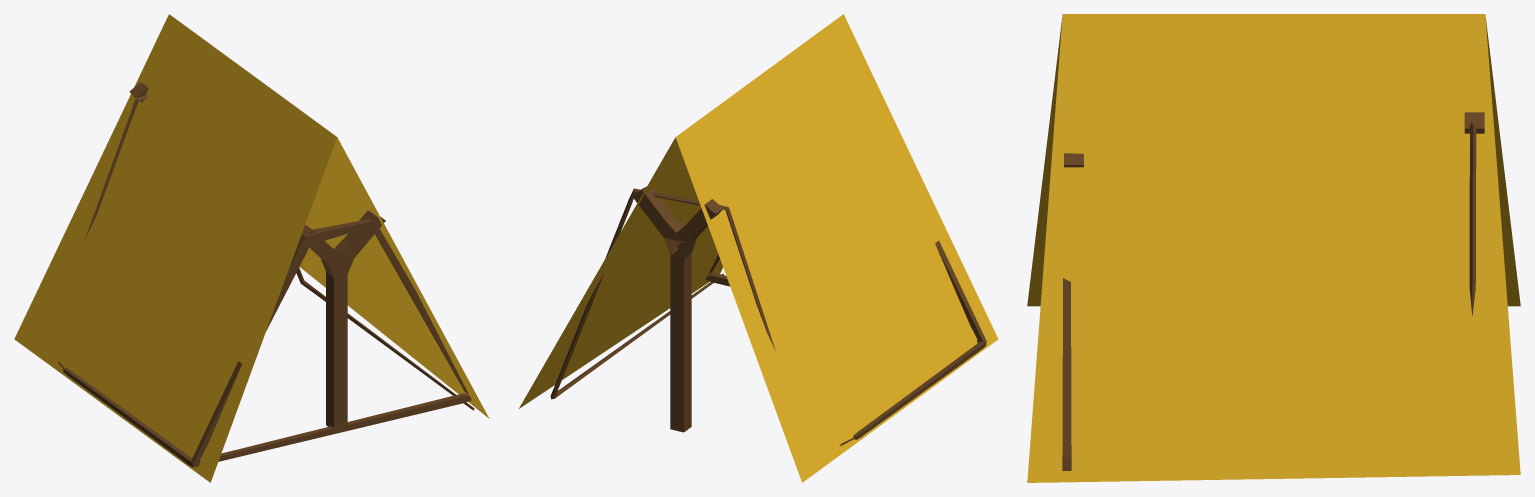
File: CAMP.fbx
3 renders of one model, left to right at view 1: azimuth 30°, elevation 25°; view 2: azimuth 150°, elevation 25°; view 3: azimuth 270°, elevation 25°, orthographic. The views are drawn at different scales.
Parts seen in each view (by area): view 1: Plane.007, Plane.005, Plane.004; view 2: Plane.007, Plane.003, Plane.005; view 3: Plane.007, Plane.005.
Boxes of the visible parts, x1=… form: Plane.007: x1=14, y1=14, x2=489, y2=482; Plane.005: x1=58, y1=94, x2=474, y2=467; Plane.004: x1=302, y1=210, x2=385, y2=427; Plane.007: x1=519, y1=14, x2=998, y2=482; Plane.003: x1=632, y1=186, x2=723, y2=432; Plane.005: x1=550, y1=188, x2=986, y2=445; Plane.007: x1=1027, y1=14, x2=1520, y2=482; Plane.005: x1=1062, y1=122, x2=1476, y2=470.
Bounding box in the file's own units: 258 × 262 × 305.
